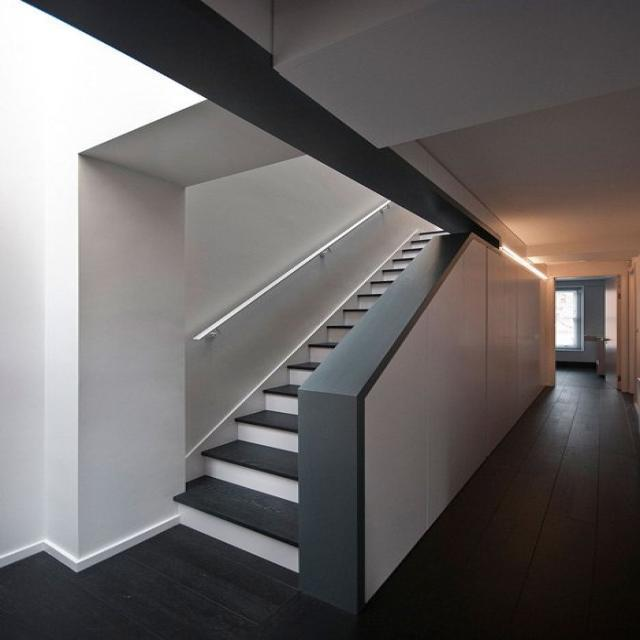stairs: (172, 225, 450, 567)
